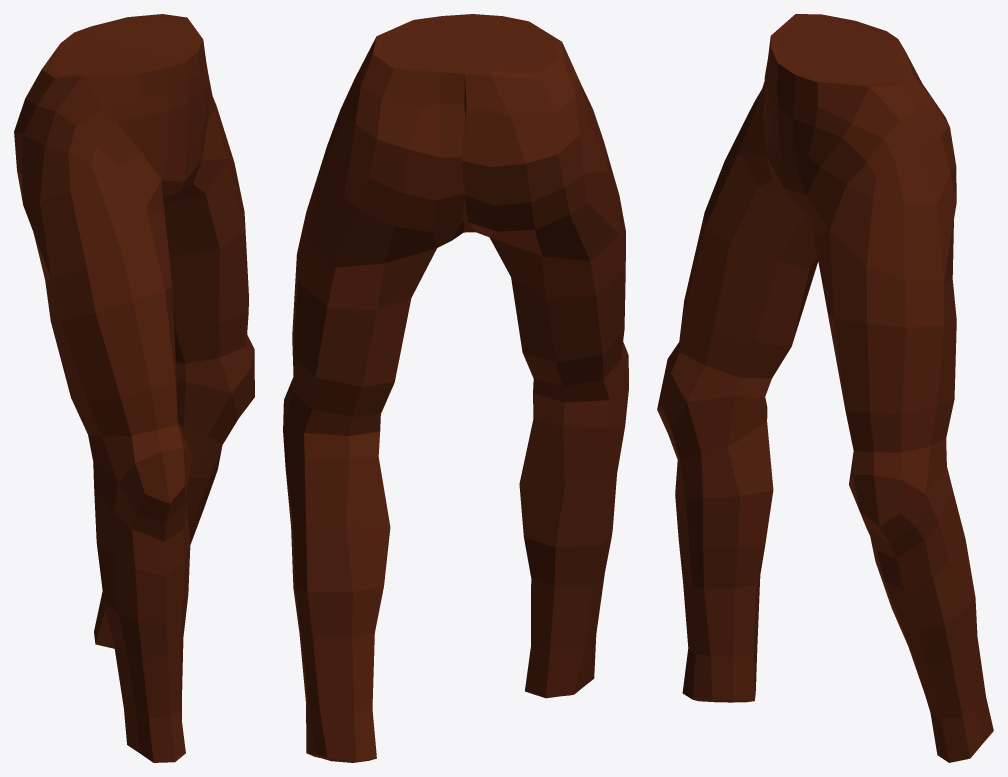
File: Orange.obj
3 views of the same model, side by side, from view 1: azimuth 30°, elevation 25°; view 2: azimuth 150°, elevation 25°; view 3: azimuth 270°, elevation 25° (orthographic). The views are drawn at different scales.
Bounding box in the file's own units: 0.388 × 0.9553 × 0.4342.
